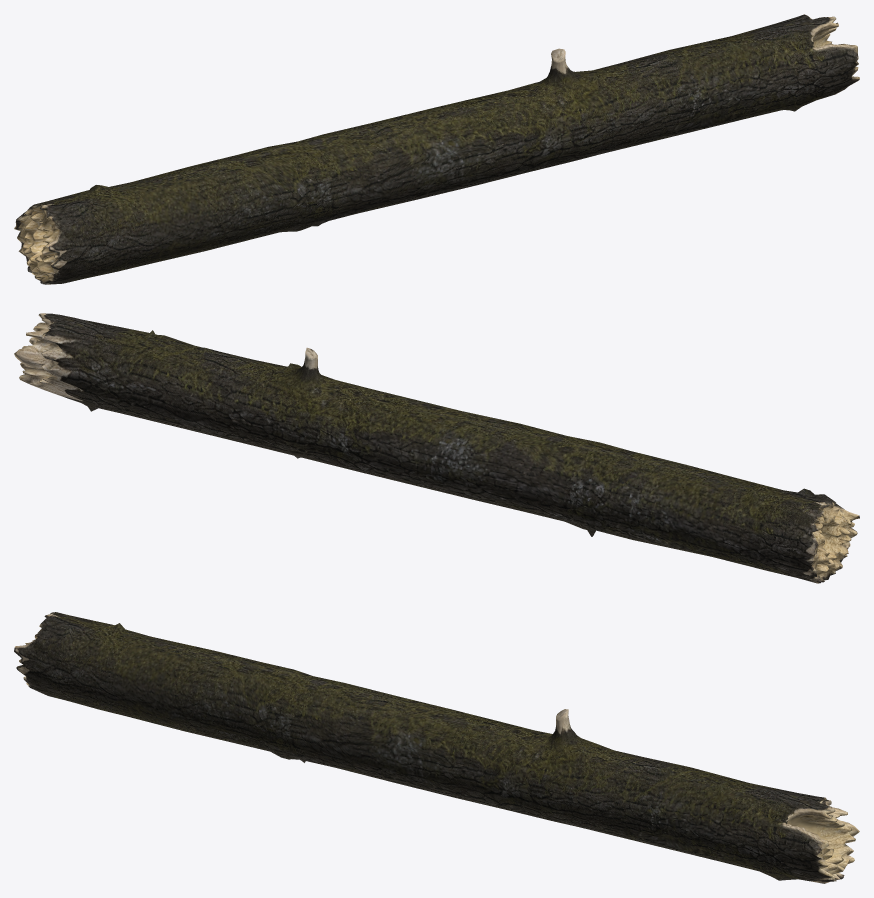
Rendered from fallen_log.glb.
3 views of the same model, one above another, from view 1: azimuth 30°, elevation 25°; view 2: azimuth 150°, elevation 25°; view 3: azimuth 330°, elevation 25° (orthographic).
Bounding box in the file's own units: 0.9536 × 0.1265 × 0.0894.
1 material, 1 textured.
